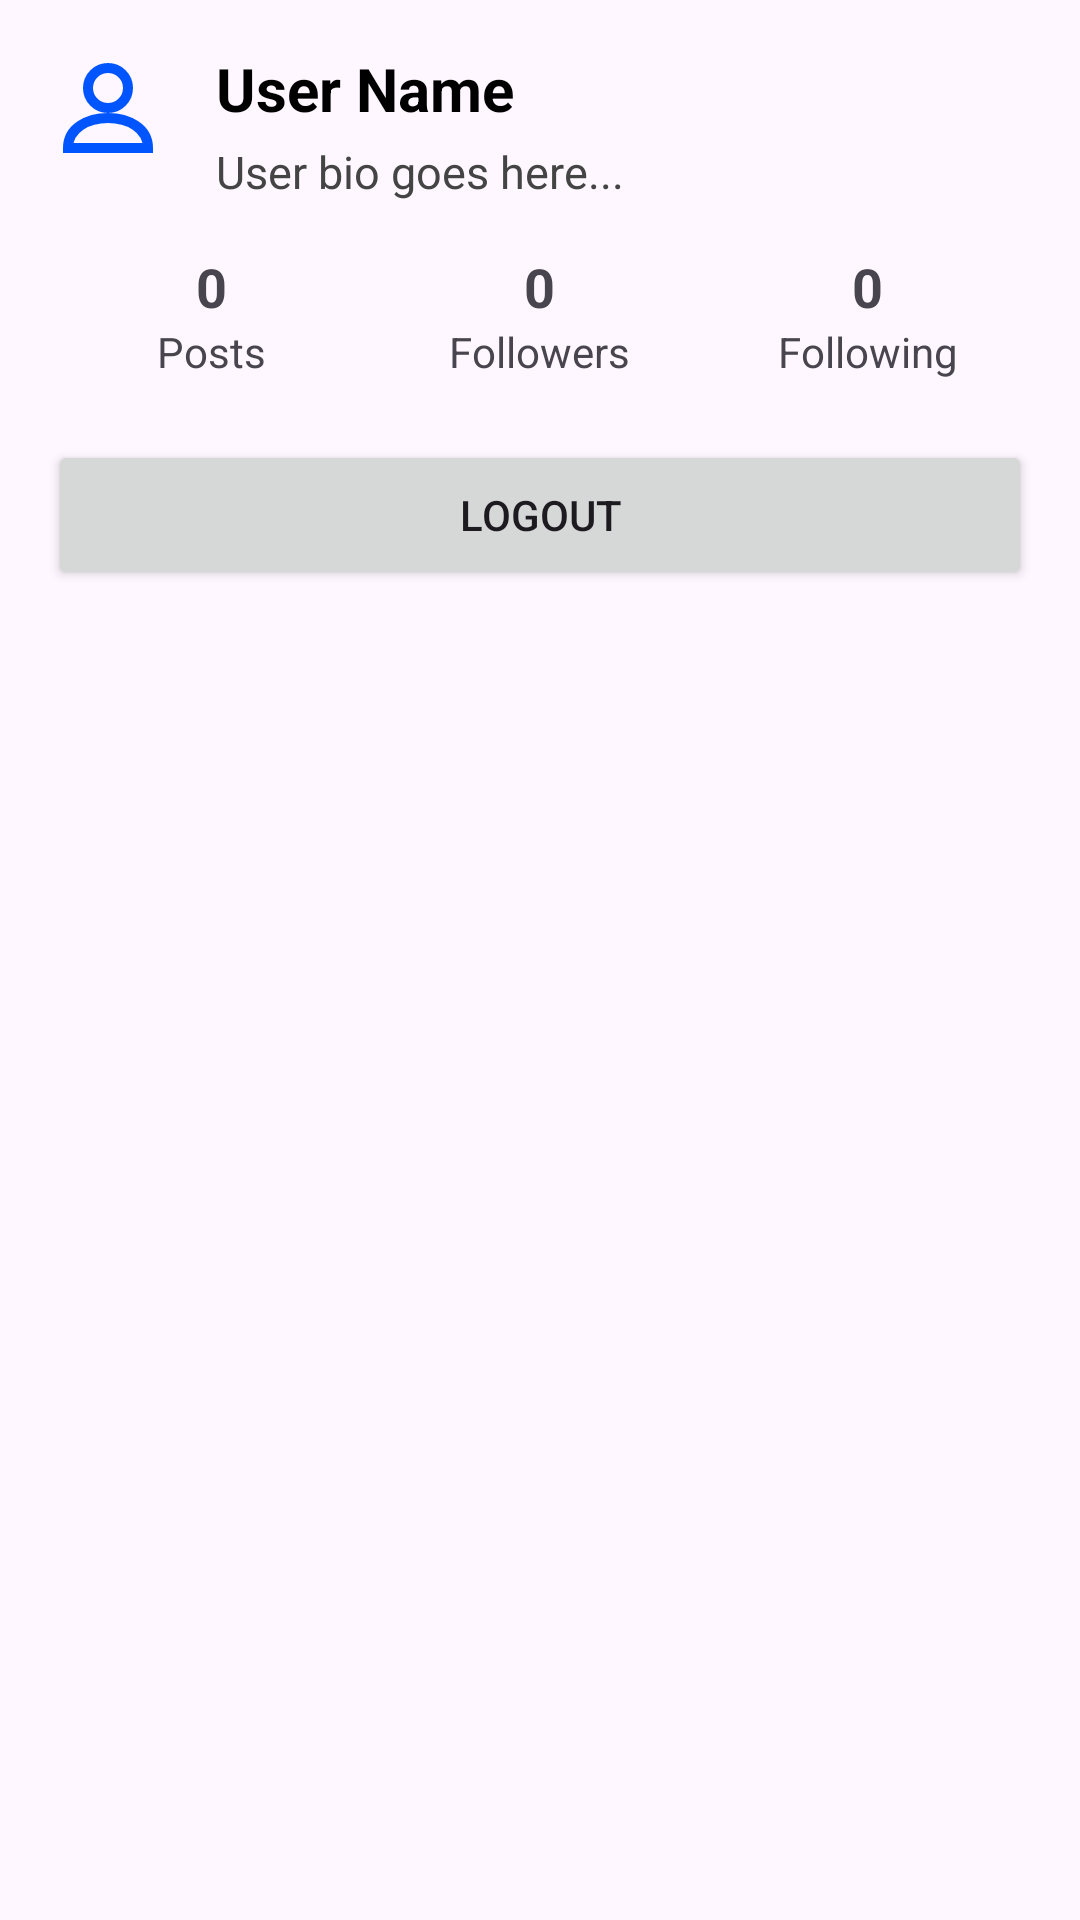

Screen size 1080 × 1920. Icon name, then its center in pixels as point (x, y):
profile: point (108, 108)
